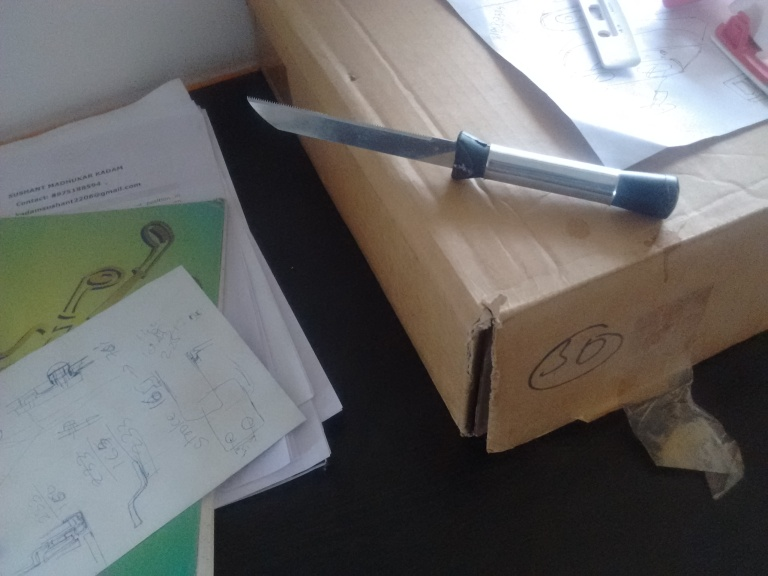knife: (252, 94, 681, 224)
